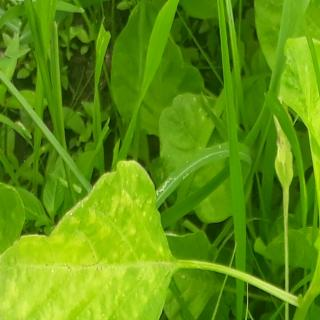karat_putih: (87, 166, 148, 260), (25, 272, 139, 320), (0, 301, 10, 320)
virus_keriting: (277, 37, 306, 118)
